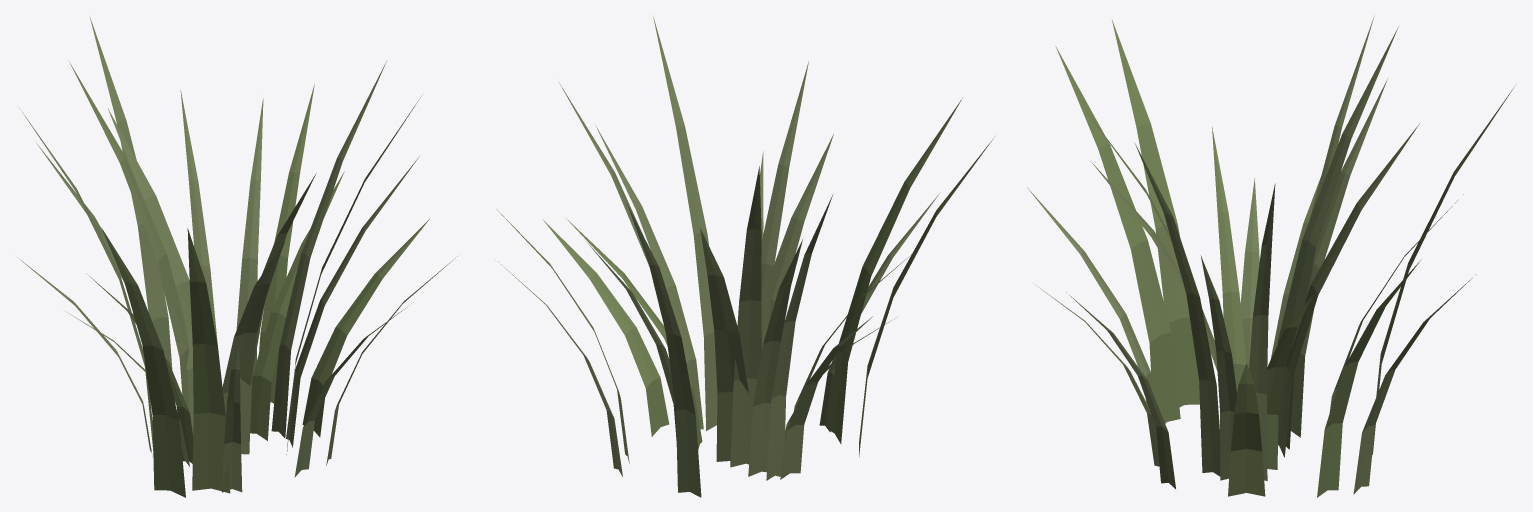
File: NA_Grass_1.glb
3 views of the same model, side by side, from view 1: azimuth 30°, elevation 25°; view 2: azimuth 150°, elevation 25°; view 3: azimuth 270°, elevation 25° (orthographic). The views are drawn at different scales.
Visible parts, largest first — view 1: NA_Grass_1; view 2: NA_Grass_1; view 3: NA_Grass_1.
Part boxes in pixels (x1,y1,x2,y2): NA_Grass_1: (17,16,459,497); NA_Grass_1: (495,17,994,497); NA_Grass_1: (1027,16,1515,497).
Size of the model in its own units: 0.4598 by 0.4072 by 0.4705.
Materials: 2 (1 with a texture image).
